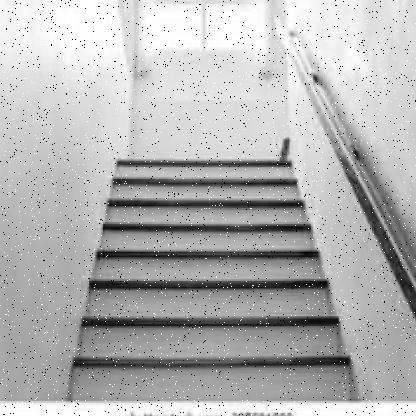stair_up: (69, 234, 354, 381)
